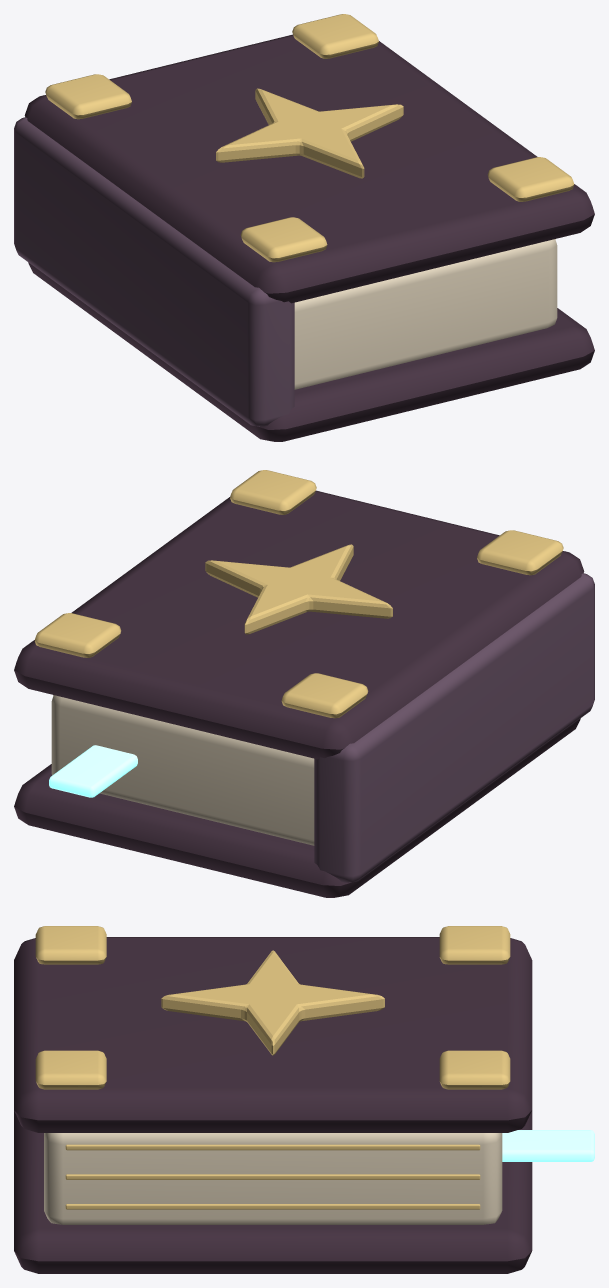
The model's file is upgrade_book.glb.
The picture shows the model from 3 angles, top to bottom: view 1: azimuth 30°, elevation 25°; view 2: azimuth 150°, elevation 25°; view 3: azimuth 270°, elevation 25°; orthographic projection. The views are drawn at different scales.
Parts seen in each view (by area): view 1: Book_cover.001, Book_spine, Book_pages, Book_cover, Book_upgrade_emblem, Book_gold_corner, Book_gold_corner.001, Book_gold_corner.002, Book_gold_corner.003; view 2: Book_cover.001, Book_spine, Book_pages, Book_cover, Book_upgrade_emblem, Book_bookmark, Book_gold_corner.001, Book_gold_corner, Book_gold_corner.003, Book_gold_corner.002; view 3: Book_cover.001, Book_pages, Book_cover, Book_upgrade_emblem, Book_bookmark, Page_edge_line.002, Book_gold_corner.003, Book_gold_corner.002, Book_gold_corner, Book_gold_corner.001, Page_edge_line, Page_edge_line.001.
Part boxes in pixels (x1,y1,x2,y2): Book_cover.001: (24,34,594,303); Book_spine: (14,117,294,426); Book_pages: (294,239,557,389); Book_cover: (28,262,594,441); Book_upgrade_emblem: (216,88,403,178); Book_gold_corner: (240,217,327,262); Book_gold_corner.001: (45,74,131,119); Book_gold_corner.002: (487,157,574,201); Book_gold_corner.003: (292,14,378,58); Book_cover.001: (14,490,584,759); Book_spine: (314,573,594,882); Book_pages: (51,695,314,845); Book_cover: (14,718,580,897); Book_upgrade_emblem: (205,544,392,634); Book_bookmark: (49,745,137,797); Book_gold_corner.001: (281,673,368,718); Book_gold_corner: (477,530,563,575); Book_gold_corner.003: (34,613,121,657); Book_gold_corner.002: (230,470,316,514); Book_cover.001: (14,937,532,1132); Book_pages: (44,1133,502,1224); Book_cover: (14,1110,532,1273); Book_upgrade_emblem: (161,950,384,1055); Book_bookmark: (502,1130,594,1161); Page_edge_line.002: (65,1144,480,1150); Book_gold_corner.003: (439,1050,510,1089); Book_gold_corner.002: (35,1050,106,1089); Book_gold_corner: (35,926,106,964); Book_gold_corner.001: (439,926,510,964); Page_edge_line: (65,1204,480,1209); Page_edge_line.001: (65,1174,480,1179).
Bounding box in the file's own units: 0.76 × 0.4125 × 1.06.
